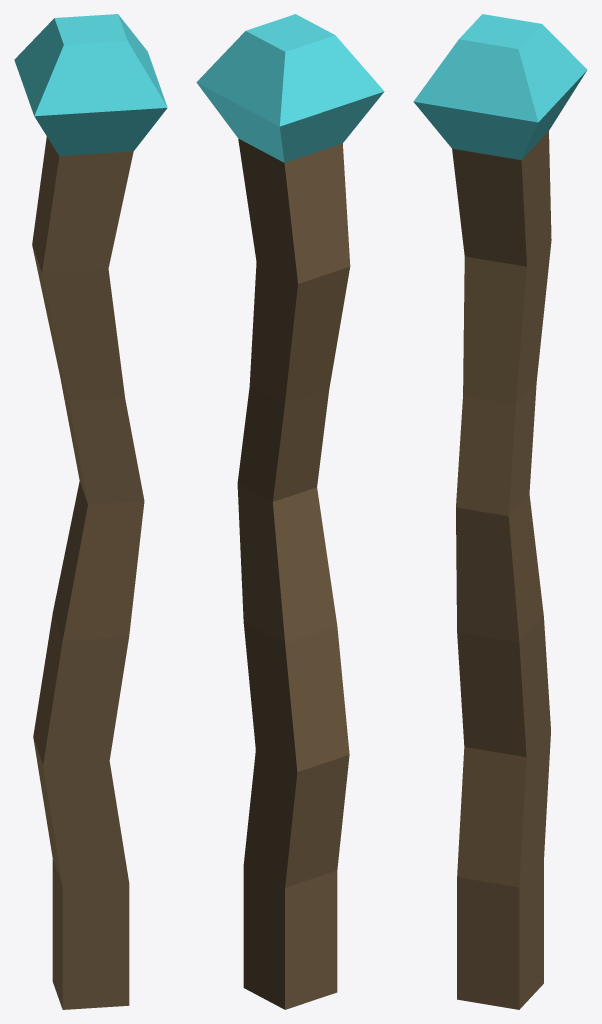
Rendered from Staff.fbx.
3 renders of one model, left to right at view 1: azimuth 30°, elevation 25°; view 2: azimuth 150°, elevation 25°; view 3: azimuth 270°, elevation 25°, orthographic.
Parts seen in each view (by area): view 1: Cube.009; view 2: Cube.009; view 3: Cube.009.
Part boxes in pixels (x1,y1,x2,y2): Cube.009: (14, 14, 167, 1009); Cube.009: (196, 14, 384, 1009); Cube.009: (413, 14, 587, 1009).
Size of the model in its own units: 36.99 by 225 by 36.99.
